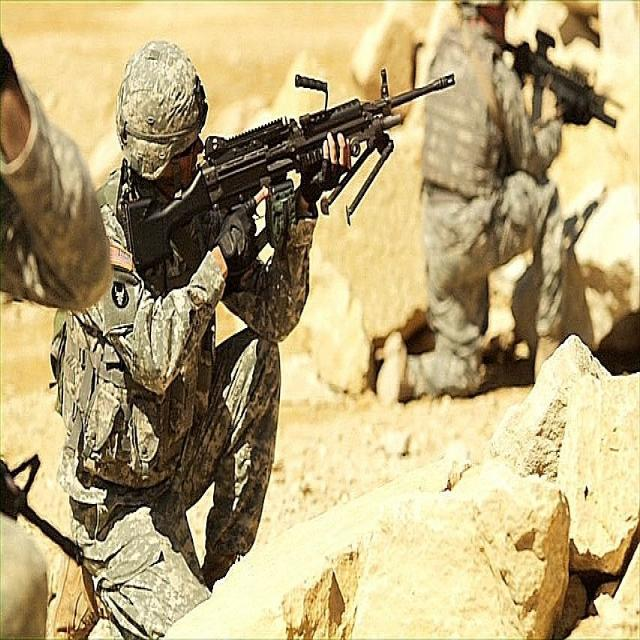gun-knife-thesis - v11 Yolov5 augmented: (114, 57, 458, 260)
